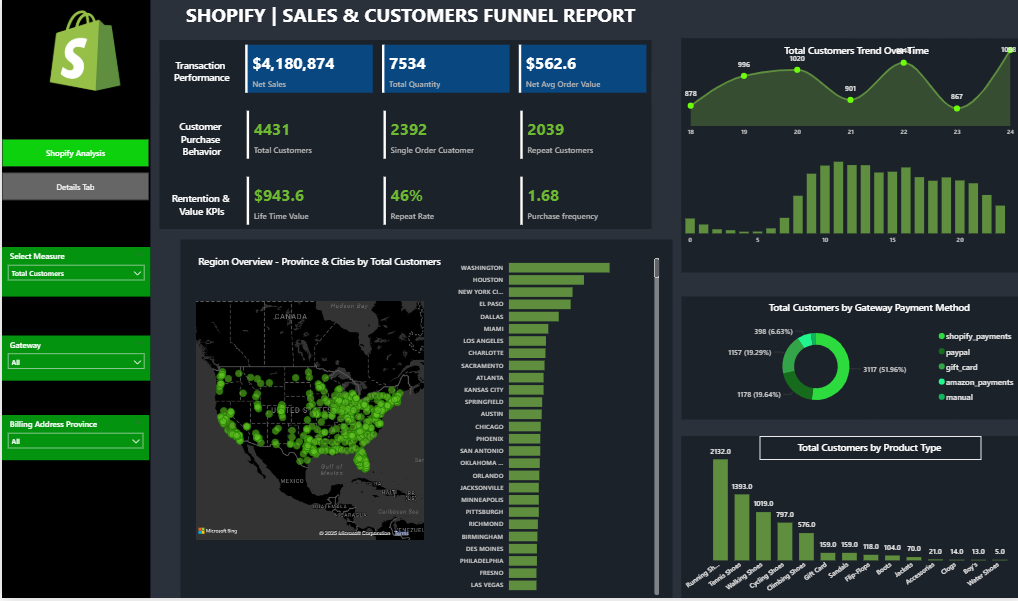

This screenshot's page, from the dashboard's own definition file:
{"tool":"powerbi","page":{"name":"Shopify Analysis","canvas":[1700,1000],"ordinal":0},"visuals":[{"type":"shape","box":[0,0,247.5,1000],"z":0},{"type":"textbox","box":[280,0,802.5,67.5],"z":1000},{"type":"shape","box":[262.5,70,820,315],"z":2000},{"type":"cardVisual","fields":{"Data":["shopify_sales.Net Sales","shopify_sales.Total Quantity","shopify_sales.Net Avg Value"]},"box":[400,72.5,680,90],"z":3000},{"type":"card","fields":{"Values":["shopify_sales.Transaction Pref"]},"box":[262.5,80,140,82.5],"z":4000},{"type":"cardVisual","fields":{"Data":["shopify_sales.Total Customers","shopify_sales.Single Order Cuatomer","shopify_sales.Repeat Customers"]},"box":[402.5,182.5,680,90],"z":5000},{"type":"card","fields":{"Values":["shopify_sales.Customer Purchase Behavior"]},"box":[262.5,190,140,82.5],"z":6000},{"type":"cardVisual","fields":{"Data":["shopify_sales.Life Time Value","shopify_sales.Repeat Rate","shopify_sales.Purchase frequency"]},"box":[402.5,292.5,680,90],"z":7000},{"type":"card","fields":{"Values":["shopify_sales.Rentention & Value KPIs"]},"box":[262.5,302.5,140,82.5],"z":8000},{"type":"shape","box":[297.5,402.5,820,597.5],"z":9000},{"type":"slicer","fields":{"Values":["Select Measure.Select Measure"]},"box":[0,415,247.5,82.5],"z":10000},{"type":"clusteredBarChart","fields":{"Y":["shopify_sales.Total Customers"],"Category":["shopify_sales.CITY"]},"box":[742.5,420,357.5,580],"z":11000},{"type":"card","fields":{"Values":["shopify_sales.Map Title"]},"box":[317.5,420,422.5,42.5],"z":12000},{"type":"shape","box":[1132.5,67.5,567.5,390],"z":13000},{"type":"areaChart","fields":{"Y":["shopify_sales.Total Customers"],"Category":["shopify_sales.Invoice Date.Variation.Date Hierarchy.Day"]},"box":[1132.5,67.5,562.5,172.5],"z":14000},{"type":"columnChart","fields":{"Y":["shopify_sales.Total Customers"],"Category":["shopify_sales.Hour"]},"box":[1132.5,245,545,175],"z":15000},{"type":"card","fields":{"Values":["shopify_sales.Trend Title"]},"box":[1287.5,70,272.5,37.5],"z":16000},{"type":"shape","box":[1132.5,497.5,562.5,205],"z":17000},{"type":"donutChart","fields":{"Y":["shopify_sales.Total Customers"],"Category":["shopify_sales.Gateway"]},"box":[1147.5,537.5,552.5,152.5],"z":18000},{"type":"card","fields":{"Values":["shopify_sales.Gateway Title"]},"box":[1262.5,497.5,370,40],"z":19000},{"type":"shape","box":[1132.5,730,562.5,270],"z":20000},{"type":"columnChart","fields":{"Y":["shopify_sales.Total Customers"],"Category":["shopify_sales.Product Type"]},"box":[1132.5,730,562.5,270],"z":21000},{"type":"card","fields":{"Values":["shopify_sales.Product Title"]},"box":[1262.5,730,370,40],"z":22000},{"type":"image","box":[65,15,147.5,145],"z":23000},{"type":"slicer","fields":{"Values":["shopify_sales.Gateway"]},"box":[0,562.5,247.5,75],"z":24000},{"type":"slicer","fields":{"Values":["shopify_sales.Billing Address Province"]},"box":[0,695,245,75],"z":25000},{"type":"pageNavigator","box":[0,235,245,102.5],"z":26000},{"type":"map","fields":{"Category":["shopify_sales.Location"]},"box":[317.5,500,390,407.5],"z":27000}]}

Visuals, with their boxes on the page's 1700x1000 design canvas (x1, y1, x2, y2). These are canvas units, not pixel positions in the 1018x601 screenshot, which may show the page scaled, cropped or inside an application window:
shape: [left=0, top=0, right=248, bottom=1000]
textbox: [left=280, top=0, right=1082, bottom=68]
shape: [left=262, top=70, right=1082, bottom=385]
cardVisual - shopify_sales.Net Sales x shopify_sales.Total Quantity: [left=400, top=72, right=1080, bottom=162]
card - shopify_sales.Transaction Pref: [left=262, top=80, right=402, bottom=162]
cardVisual - shopify_sales.Total Customers x shopify_sales.Single Order Cuatomer: [left=402, top=182, right=1082, bottom=272]
card - shopify_sales.Customer Purchase Behavior: [left=262, top=190, right=402, bottom=272]
cardVisual - shopify_sales.Life Time Value x shopify_sales.Repeat Rate: [left=402, top=292, right=1082, bottom=382]
card - shopify_sales.Rentention & Value KPIs: [left=262, top=302, right=402, bottom=385]
shape: [left=298, top=402, right=1118, bottom=1000]
slicer - Select Measure.Select Measure: [left=0, top=415, right=248, bottom=498]
clusteredBarChart - shopify_sales.Total Customers x shopify_sales.CITY: [left=742, top=420, right=1100, bottom=1000]
card - shopify_sales.Map Title: [left=318, top=420, right=740, bottom=462]
shape: [left=1132, top=68, right=1700, bottom=458]
areaChart - shopify_sales.Total Customers x shopify_sales.Invoice Date.Variation.Date Hierarchy.Day: [left=1132, top=68, right=1695, bottom=240]
columnChart - shopify_sales.Total Customers x shopify_sales.Hour: [left=1132, top=245, right=1678, bottom=420]
card - shopify_sales.Trend Title: [left=1288, top=70, right=1560, bottom=108]
shape: [left=1132, top=498, right=1695, bottom=702]
donutChart - shopify_sales.Total Customers x shopify_sales.Gateway: [left=1148, top=538, right=1700, bottom=690]
card - shopify_sales.Gateway Title: [left=1262, top=498, right=1632, bottom=538]
shape: [left=1132, top=730, right=1695, bottom=1000]
columnChart - shopify_sales.Total Customers x shopify_sales.Product Type: [left=1132, top=730, right=1695, bottom=1000]
card - shopify_sales.Product Title: [left=1262, top=730, right=1632, bottom=770]
image: [left=65, top=15, right=212, bottom=160]
slicer - shopify_sales.Gateway: [left=0, top=562, right=248, bottom=638]
slicer - shopify_sales.Billing Address Province: [left=0, top=695, right=245, bottom=770]
pageNavigator: [left=0, top=235, right=245, bottom=338]
map - shopify_sales.Location: [left=318, top=500, right=708, bottom=908]
